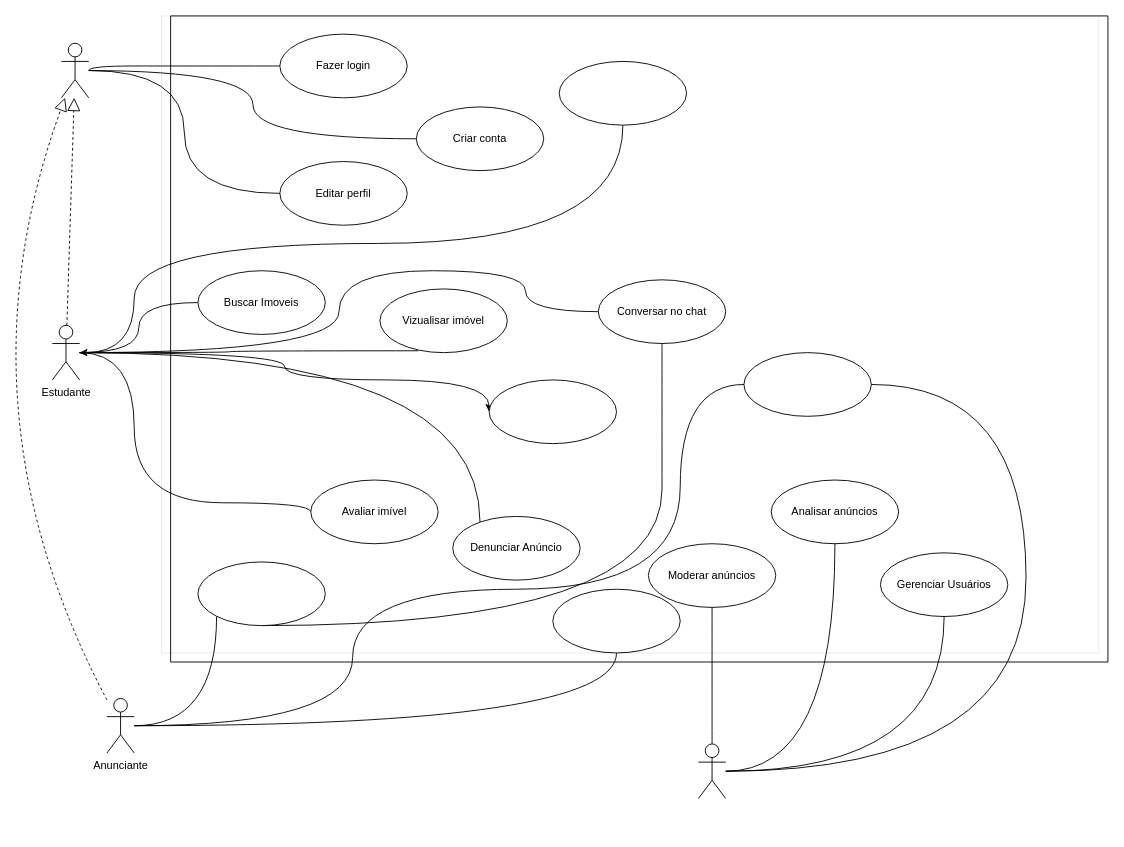
Image size: 1124x847. Some labels were removed from this diagram. The shapes that lost their labels are listed below. From the top down, each one's box as (x1, y1, x2, y2) in pixels, then its label:
(61, 42, 89, 98): Usuário
(558, 61, 687, 125): Abrir Chat
(743, 352, 871, 416): Apagar anúncio
(488, 379, 617, 444): Favoritar imóvel
(197, 561, 325, 626): Cadastrar Anúncio
(552, 588, 680, 653): Editar anúncio
(698, 743, 726, 799): Admin
